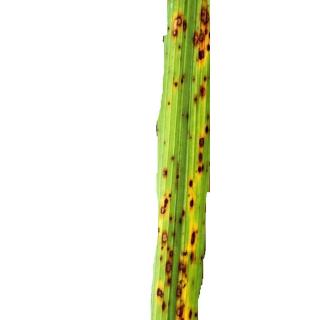bercak-Cokelat: (175, 258, 197, 320), (194, 1, 211, 70), (172, 12, 189, 55), (191, 72, 210, 108), (162, 231, 167, 243), (191, 231, 195, 245), (199, 137, 204, 147)
